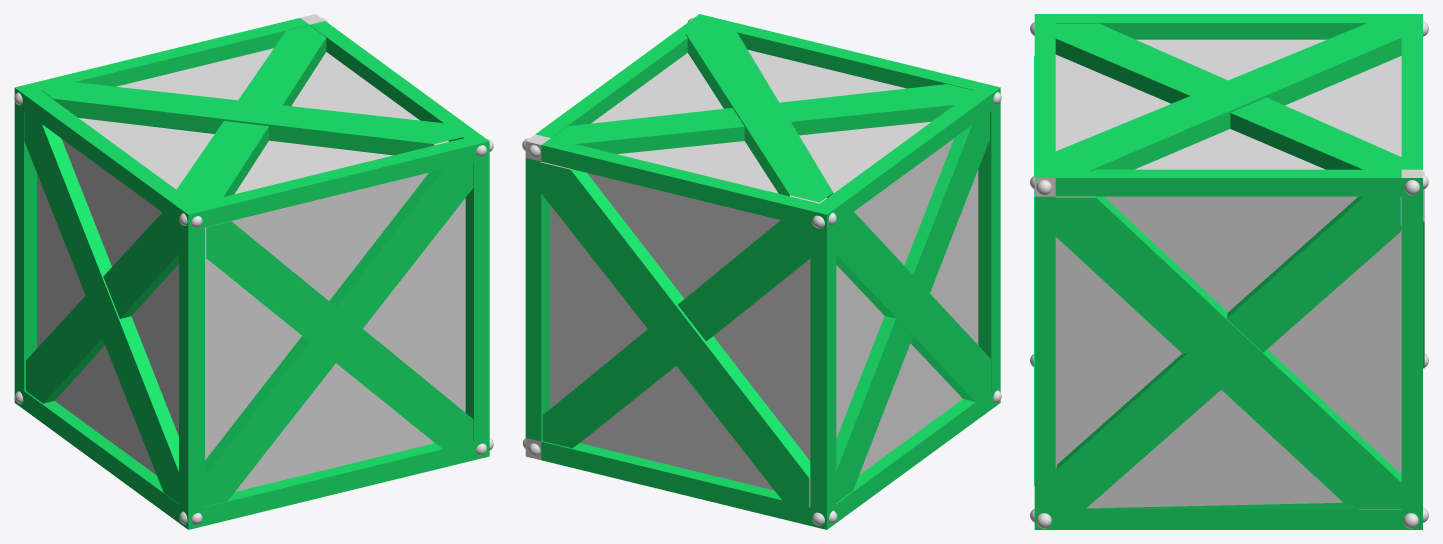
Rendered from Box oww.fbx.
3 renders of one model, left to right at view 1: azimuth 30°, elevation 25°; view 2: azimuth 150°, elevation 25°; view 3: azimuth 270°, elevation 25°, orthographic. The views are drawn at different scales.
Parts seen in each view (by area): view 1: Cube.002, Cube, Sphere; view 2: Cube.002, Cube, Sphere; view 3: Cube.002, Cube, Sphere.
Part boxes in pixels (box(x1,y1,x2,y2)): Cube.002: box(14, 18, 489, 529); Cube: box(37, 14, 465, 491); Sphere: box(14, 18, 493, 524); Cube.002: box(525, 14, 1000, 529); Cube: box(525, 50, 978, 507); Sphere: box(522, 17, 1001, 525); Cube.002: box(1034, 14, 1424, 529); Cube: box(1034, 39, 1424, 509); Sphere: box(1030, 21, 1428, 528).
Size of the model in its own units: 208 by 201 by 205.
